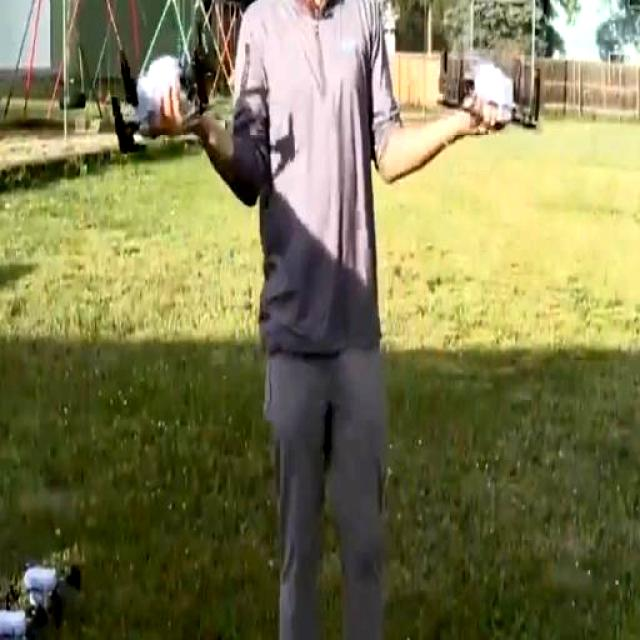bird: (88, 21, 220, 149), (444, 34, 545, 138)
